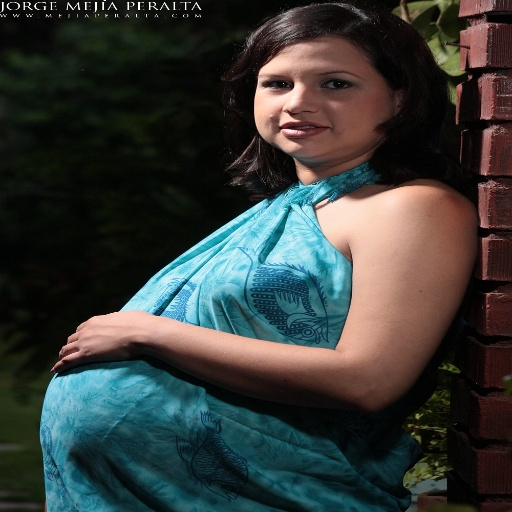hand: (49, 307, 146, 376)
